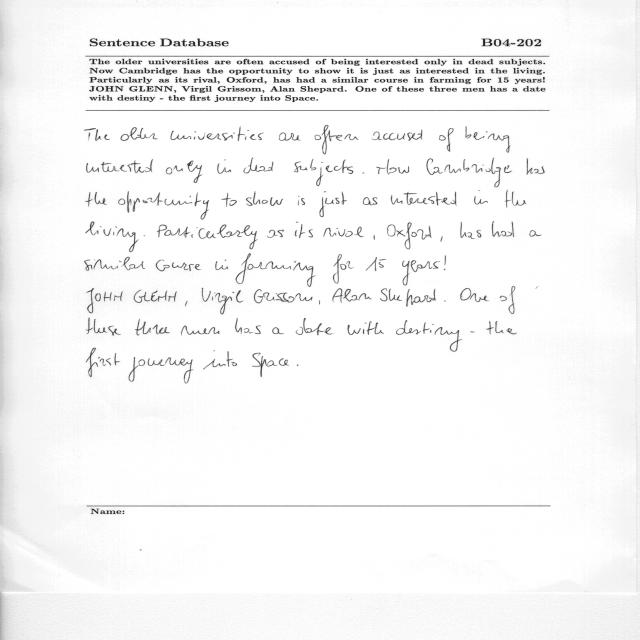word: (235, 254, 316, 287), (118, 191, 209, 220), (157, 225, 257, 250), (426, 158, 512, 187), (396, 320, 462, 352), (129, 357, 194, 383), (294, 159, 353, 186), (86, 222, 139, 252), (170, 127, 264, 141), (314, 126, 359, 155), (466, 126, 511, 153), (387, 223, 432, 250), (202, 288, 243, 314), (380, 289, 436, 307), (402, 260, 440, 286), (391, 191, 456, 206), (87, 348, 120, 377), (86, 159, 153, 173), (87, 288, 123, 313), (252, 353, 289, 377), (85, 257, 145, 271), (166, 160, 202, 183), (254, 290, 312, 304), (319, 191, 347, 217), (203, 351, 237, 370), (333, 254, 354, 284), (86, 318, 121, 336), (296, 318, 333, 335), (332, 288, 372, 303), (135, 319, 170, 335), (134, 290, 177, 303), (246, 191, 283, 206), (372, 130, 422, 141), (121, 127, 158, 141), (347, 321, 384, 335), (376, 160, 409, 175), (156, 260, 201, 271), (244, 158, 274, 173), (500, 286, 515, 314), (235, 318, 261, 334), (460, 288, 489, 302), (324, 227, 364, 237), (181, 326, 220, 336), (486, 321, 516, 334), (505, 190, 526, 208), (461, 222, 482, 239), (439, 128, 453, 152), (85, 192, 107, 207), (492, 222, 514, 237), (85, 128, 110, 141), (526, 158, 545, 175), (295, 222, 313, 238), (366, 257, 386, 271), (221, 193, 237, 207), (217, 160, 231, 174), (474, 191, 488, 205), (279, 132, 300, 141), (267, 230, 284, 238), (216, 260, 229, 270), (363, 197, 377, 205), (530, 230, 542, 237), (272, 328, 284, 335), (298, 196, 305, 205), (444, 256, 446, 271), (185, 301, 188, 307), (441, 236, 443, 242), (373, 235, 375, 240), (319, 300, 320, 305), (470, 331, 475, 332), (363, 173, 365, 174), (144, 235, 146, 236), (444, 301, 446, 302), (297, 364, 298, 366)
